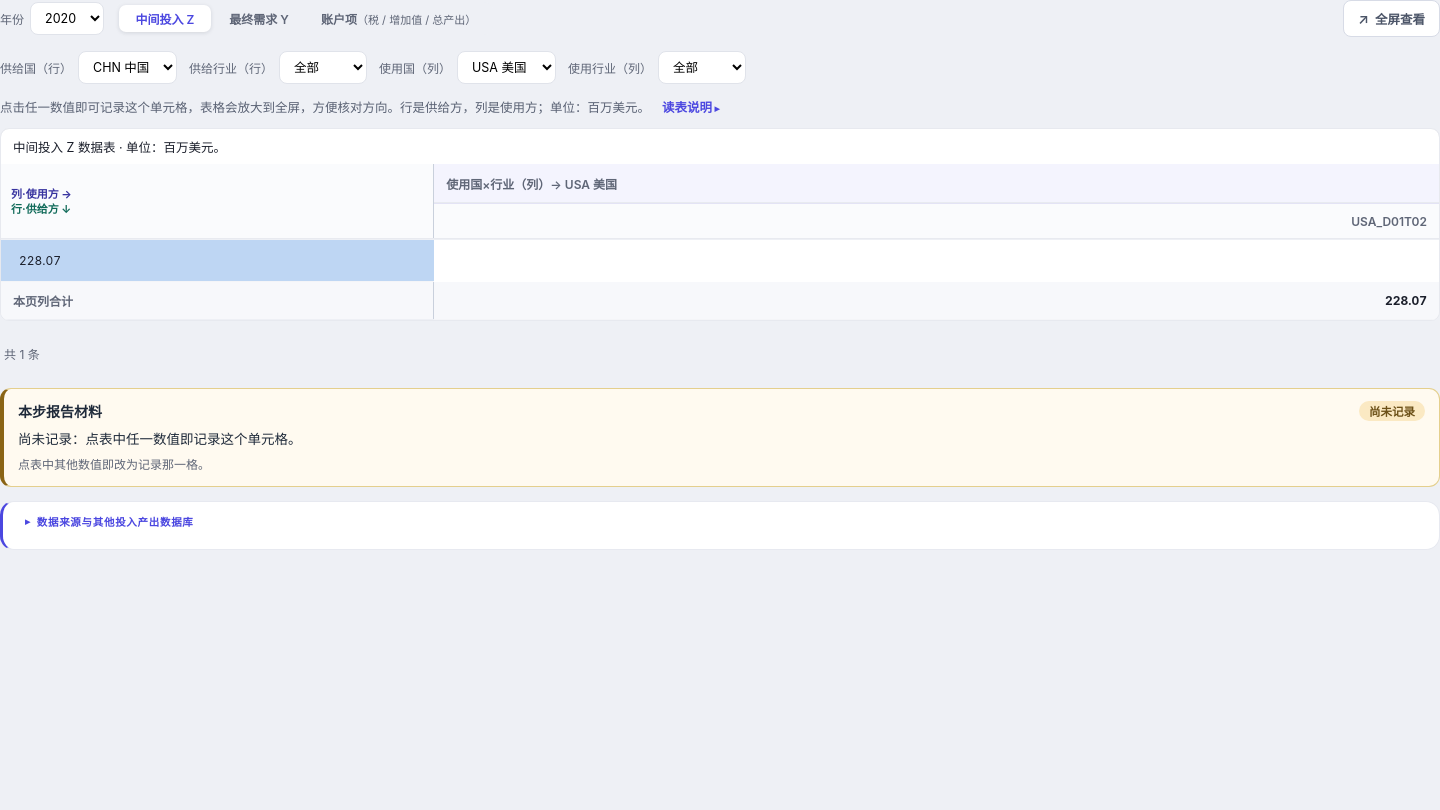
Test: step 1 round 10 fixes › Tab reaches 年份 and the table tabs before 全屏查看, which ends the first control row
This screenshot has width=1440, height=810.
// Expanding and leaving again still works from the moved button.
Click the button with aria-label "全屏查看：" at (1392, 18), box [1343, 0, 1439, 37]
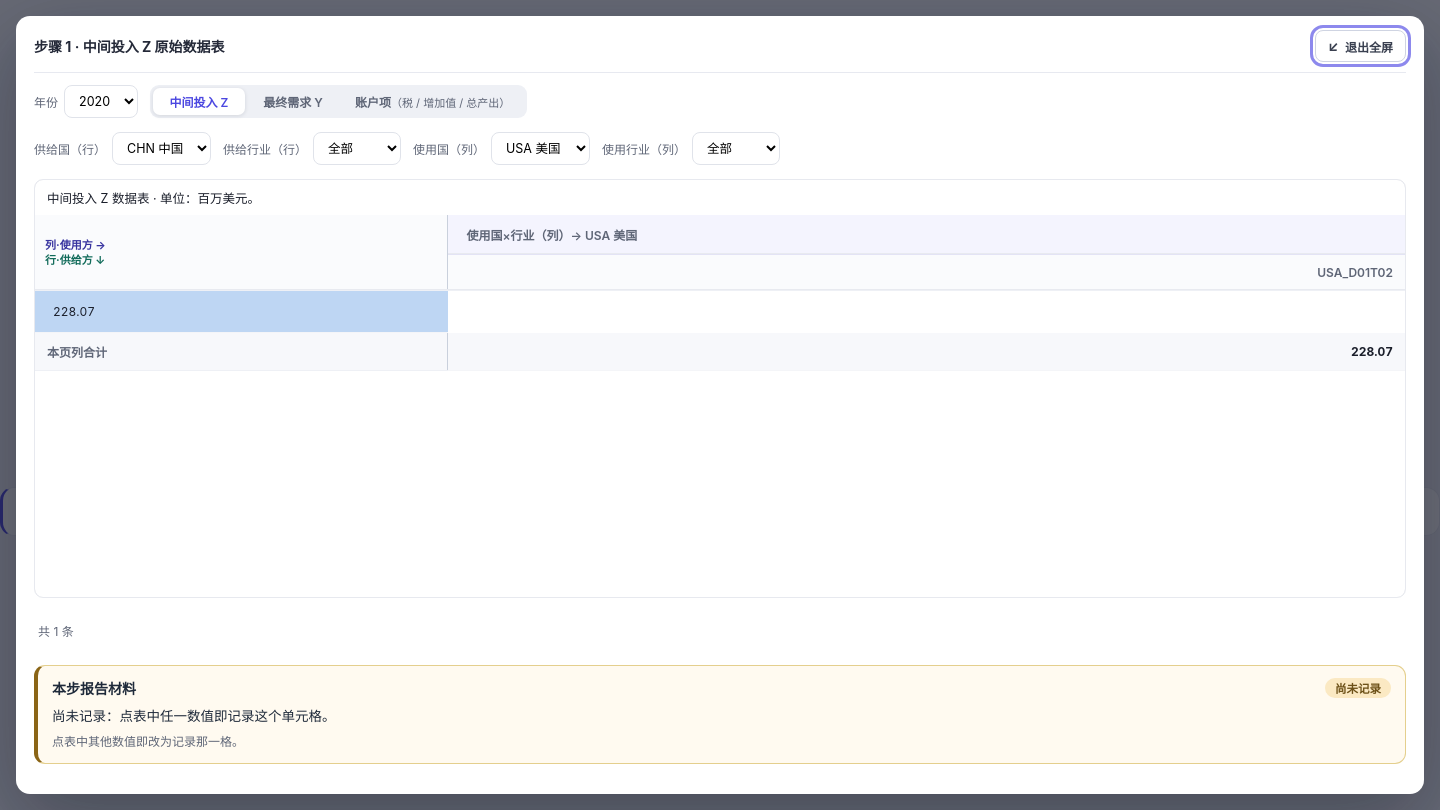
Result: the dialog is shown
Click the button "↙ 退出全屏" at (1360, 46), box [1315, 30, 1406, 62]
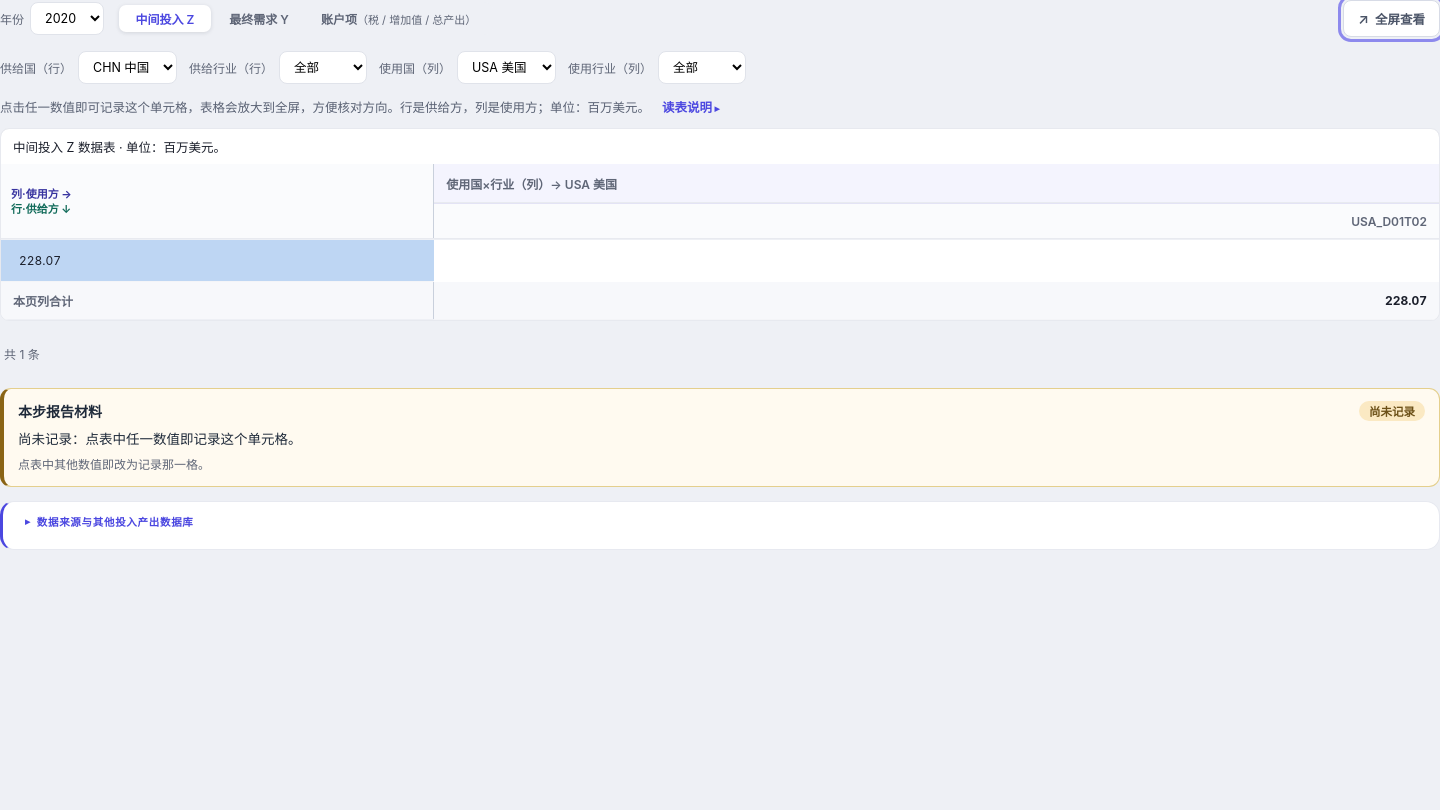
Result: the button with aria-label "全屏查看：" is shown at [1343, 0, 1439, 37]
